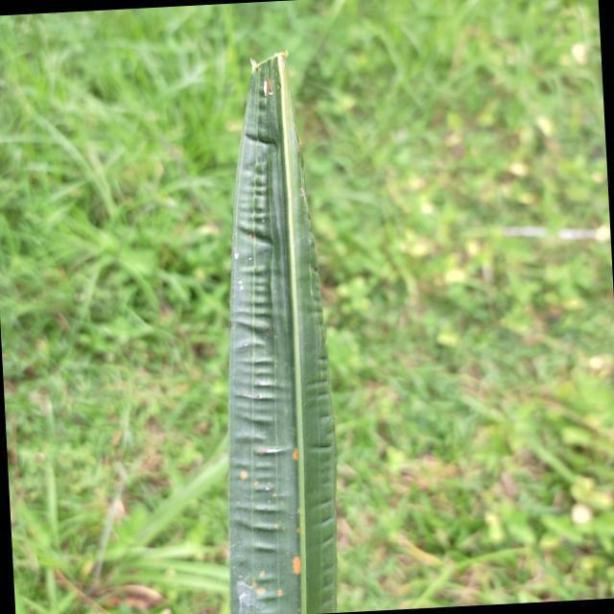Boron: (219, 33, 339, 614)
